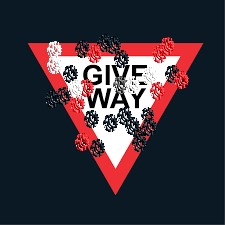giveway: (28, 38, 208, 197), (100, 43, 195, 196), (35, 42, 123, 180), (57, 94, 175, 158)
